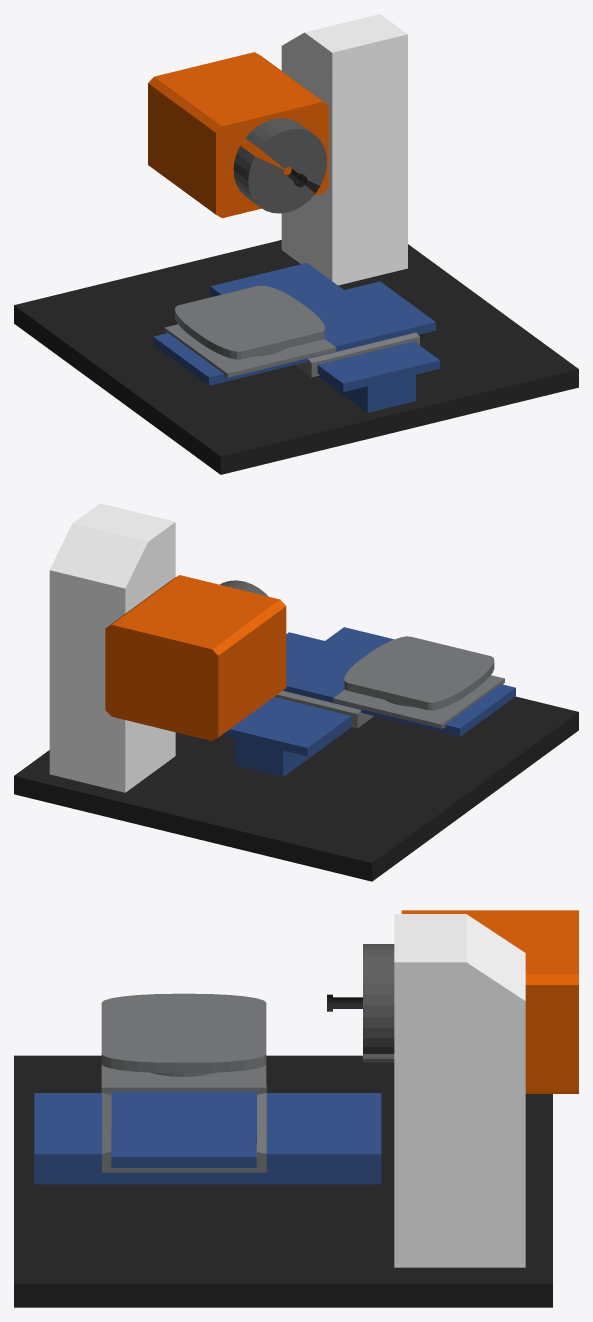
File: Bohrwerk.glb
3 renders of one model, top to bottom at view 1: azimuth 30°, elevation 25°; view 2: azimuth 150°, elevation 25°; view 3: azimuth 270°, elevation 25°, orthographic. The views are drawn at different scales.
Visible parts, largest first — view 1: Plate, Tower, Engine, xAxis, TurnTable, yAxis, Rotor, TopPlate.001, WorkPlate; view 2: Plate, Tower, Engine, TurnTable, xAxis, yAxis, TopPlate.001, WorkPlate; view 3: Plate, Tower, xAxis, TurnTable, Engine, yAxis, Rotor, TopPlate.001, WorkPlate.
Boxes of the visible parts, x1,y1,x2,y2 form: Plate: (14,240,578,474); Tower: (281,14,407,285); Engine: (148,52,328,218); xAxis: (210,263,439,412); TurnTable: (175,285,324,359); yAxis: (153,281,435,385); Rotor: (233,118,326,213); TopPlate.001: (164,324,336,377); WorkPlate: (295,332,419,377); Plate: (14,696,578,881); Tower: (49,503,175,792); Engine: (105,575,286,740); TurnTable: (344,636,494,710); xAxis: (221,627,393,776); yAxis: (283,632,515,736); TopPlate.001: (333,675,504,728); WorkPlate: (274,690,373,728); Plate: (14,1055,552,1307); Tower: (394,914,525,1267); xAxis: (34,1093,381,1184); TurnTable: (101,993,266,1072); Engine: (401,910,578,1093); yAxis: (111,1091,256,1167); Rotor: (363,944,394,1062); TopPlate.001: (101,1064,266,1094); WorkPlate: (102,1085,266,1172).
Size of the model in its own units: 2 by 1.35 by 2.1.
